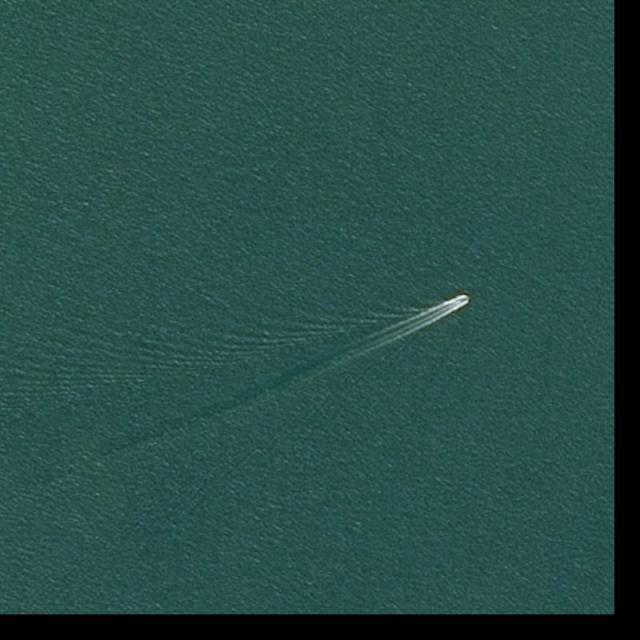ship: (461, 298, 470, 303)
